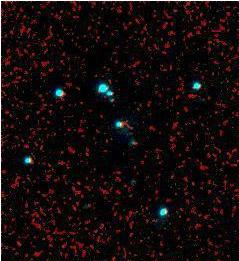star: (99, 92, 129, 122)
